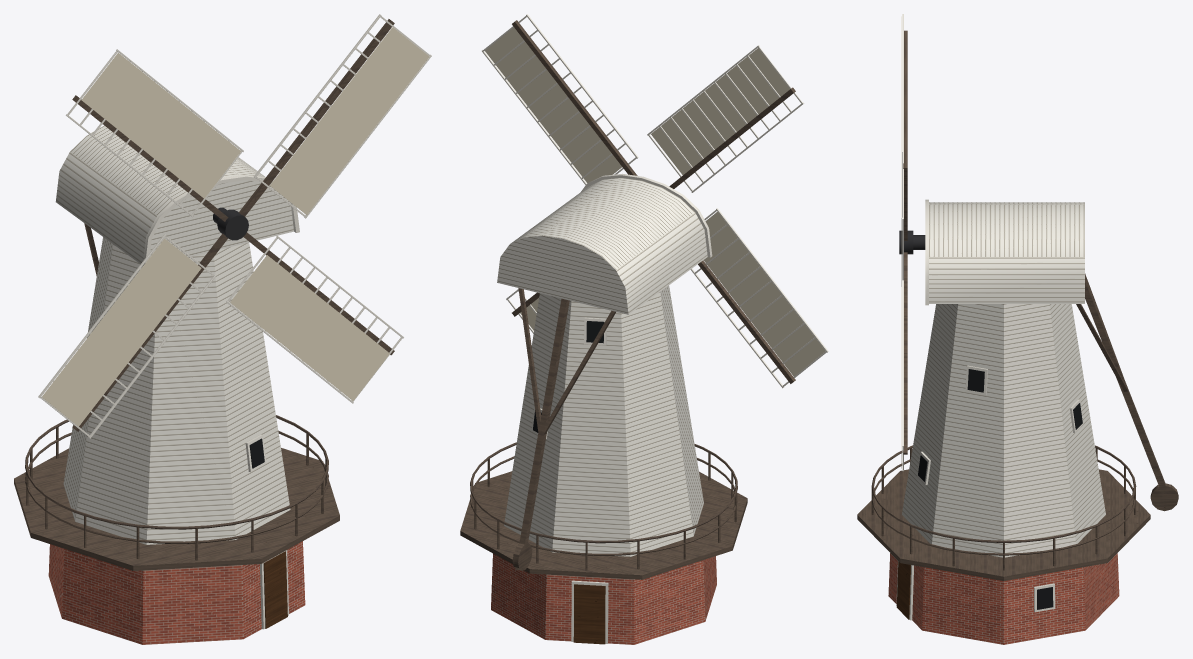
Rendered from smock-mill.glb.
3 views of the same model, side by side, from view 1: azimuth 30°, elevation 25°; view 2: azimuth 150°, elevation 25°; view 3: azimuth 270°, elevation 25° (orthographic). The views are drawn at different scales.
Visible parts, largest first — view 1: Smock_Mill, Sails, Cap; view 2: Smock_Mill, Sails, Cap; view 3: Smock_Mill, Cap, Sails.
Part boxes in pixels (x1=…): Smock_Mill: x1=14, y1=237, x2=339, y2=644; Sails: x1=38, y1=14, x2=431, y2=438; Cap: x1=55, y1=125, x2=299, y2=275; Smock_Mill: x1=460, y1=285, x2=747, y2=644; Sails: x1=482, y1=14, x2=828, y2=388; Cap: x1=497, y1=173, x2=712, y2=570; Smock_Mill: x1=857, y1=304, x2=1150, y2=644; Cap: x1=913, y1=199, x2=1178, y2=511; Sails: x1=899, y1=14, x2=913, y2=471.
Size of the model in its own units: 12.64 by 18.82 by 10.3.
Materials: 8 (4 with a texture image).
